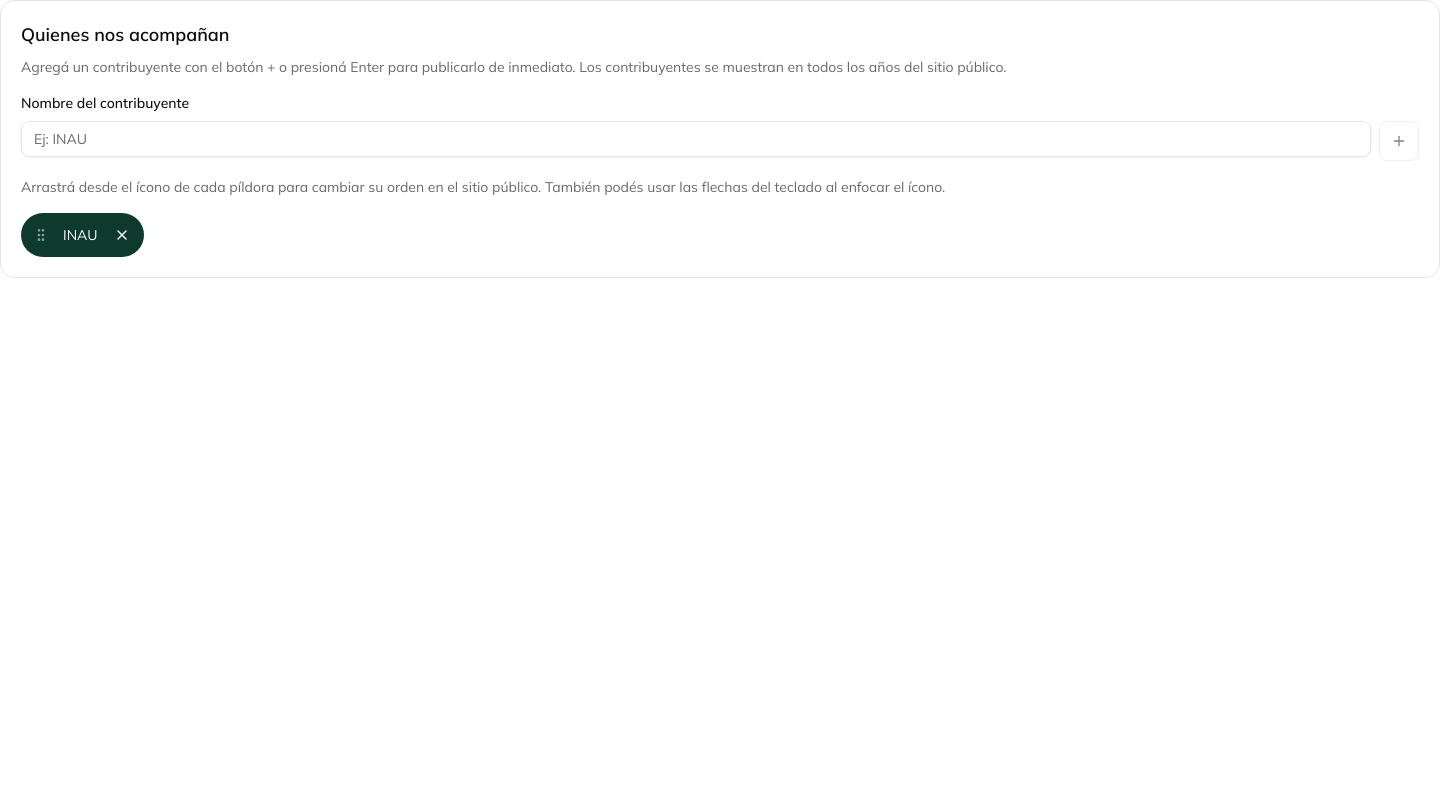
Test: requires confirmation and lets the user cancel deletion
Click the button named "Eliminar INAU" at {"x": 122, "y": 235}, box [106,219,138,251]
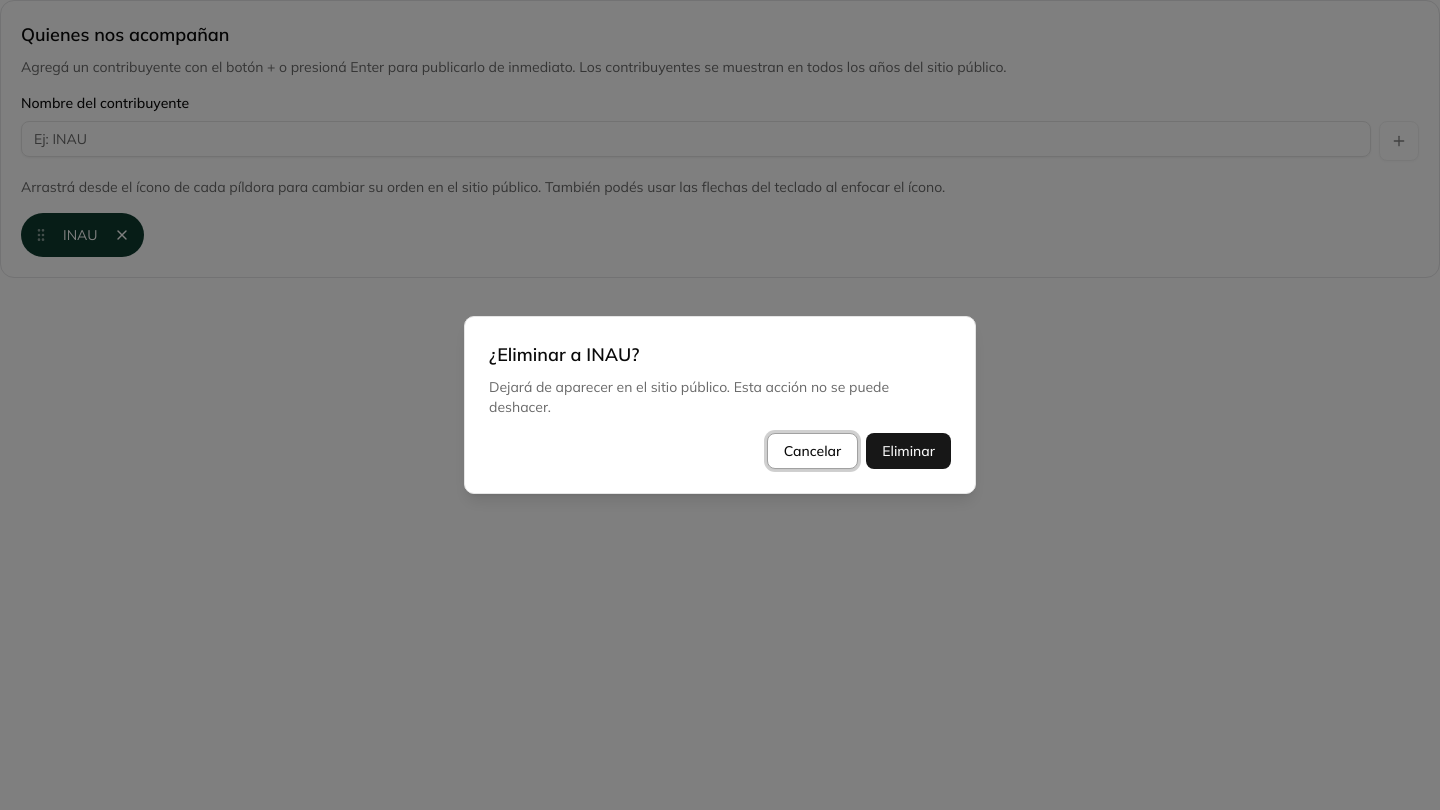
Check: the dialog shows "Eliminar a INAU", box [464,316,976,494]
Click the button "Cancelar" at {"x": 812, "y": 451}, box [767,433,858,469]
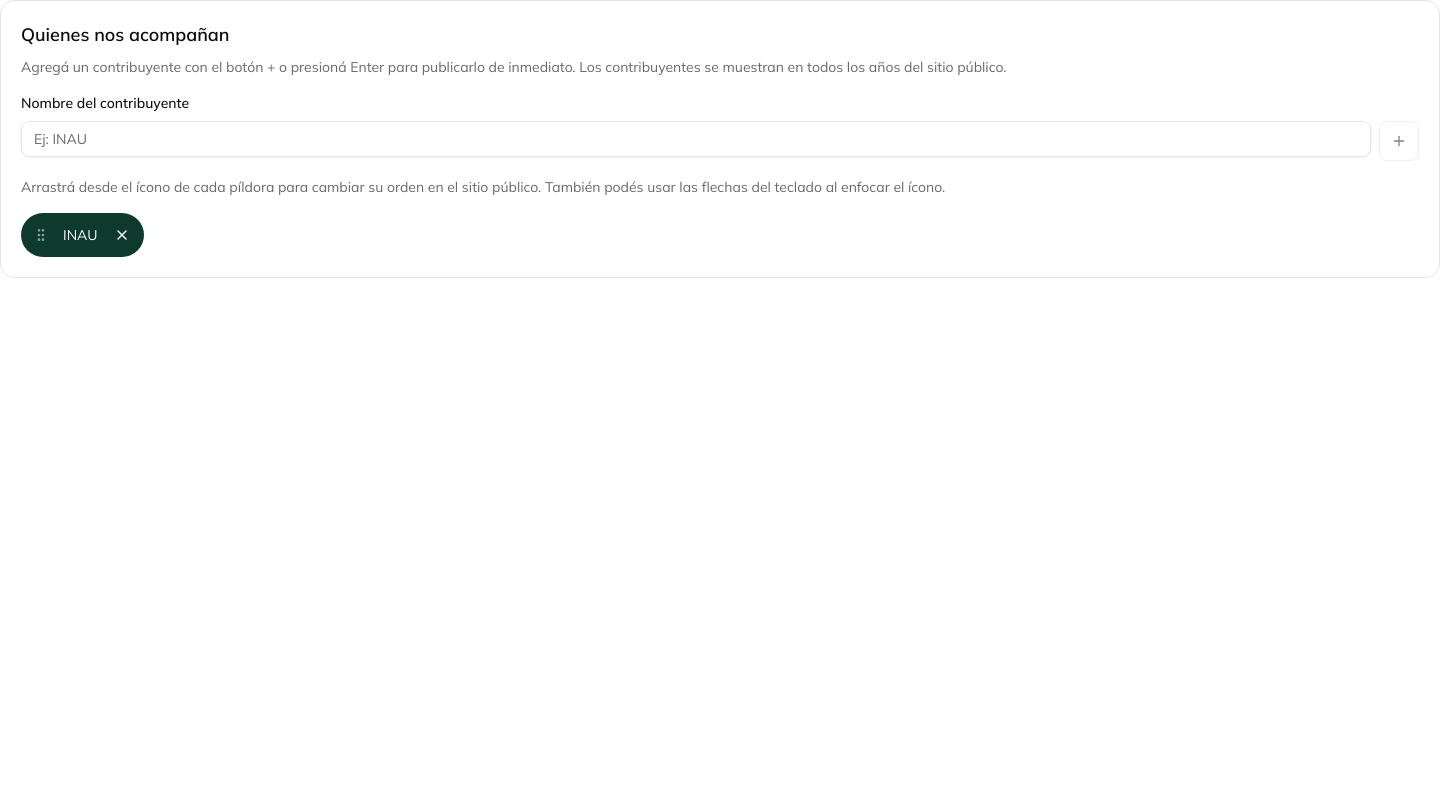
Check: the dialog is gone
Click the button named "Eliminar INAU" at {"x": 122, "y": 235}, box [106,219,138,251]
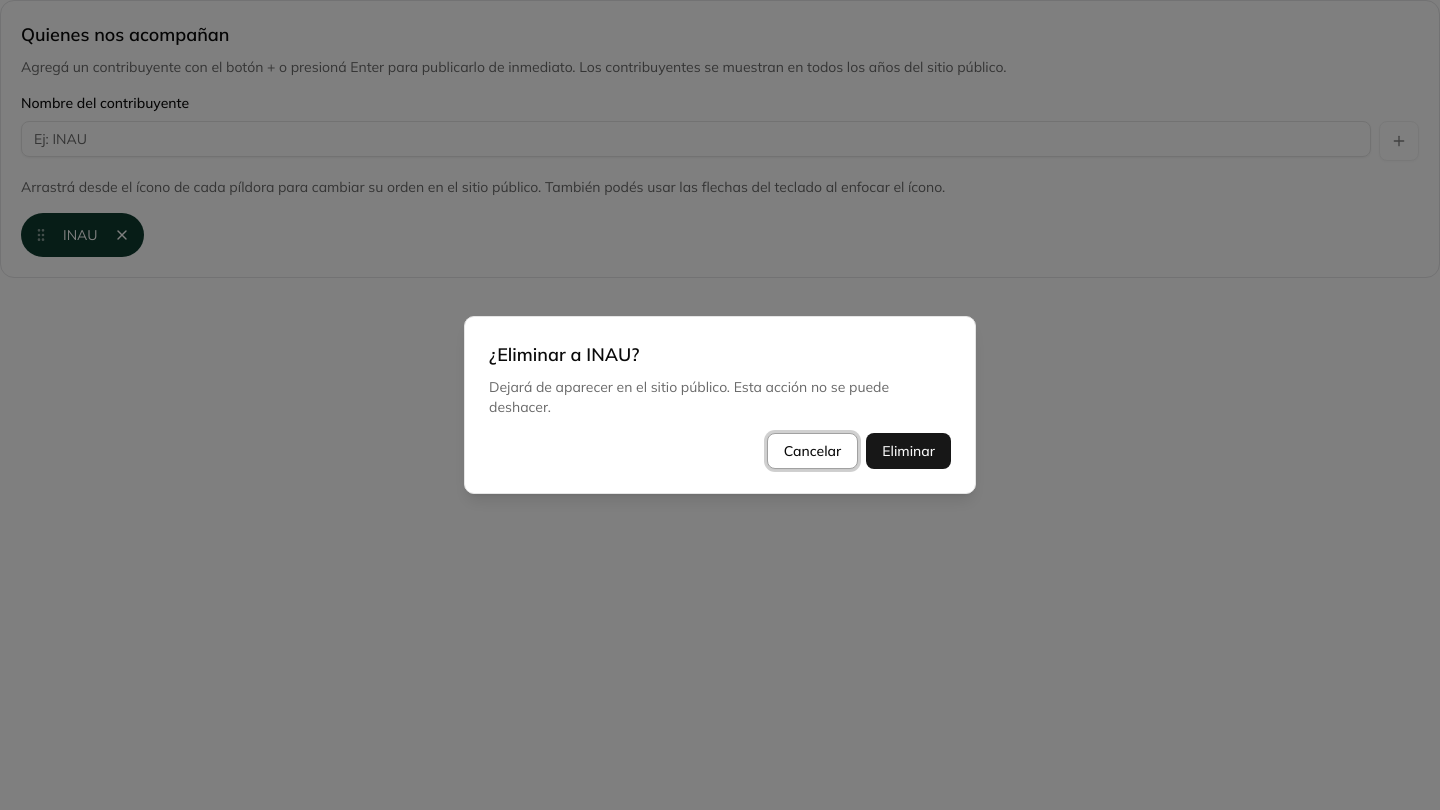
Click the button "Eliminar" at {"x": 909, "y": 451}, box [866,433,951,469]
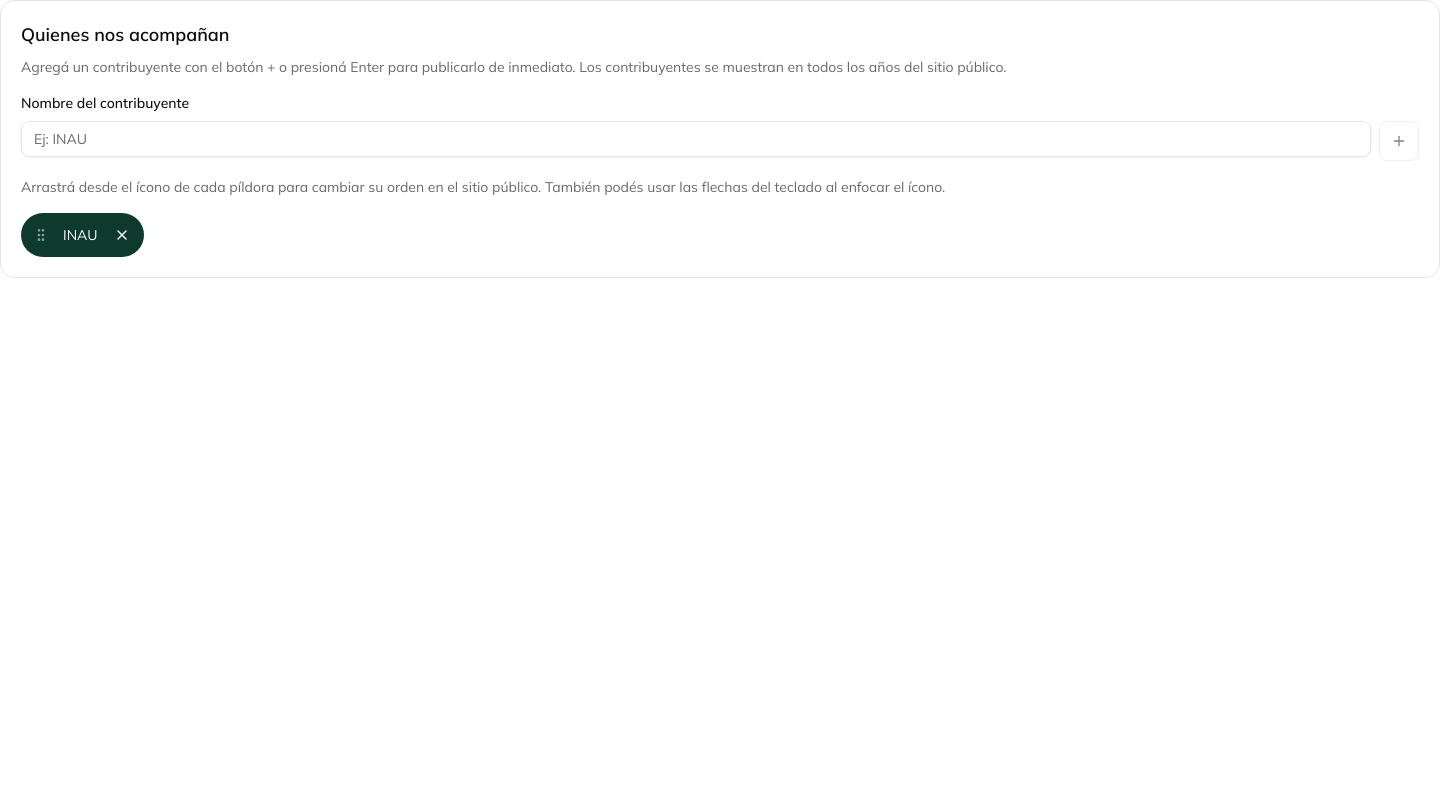
Check: the dialog is gone
